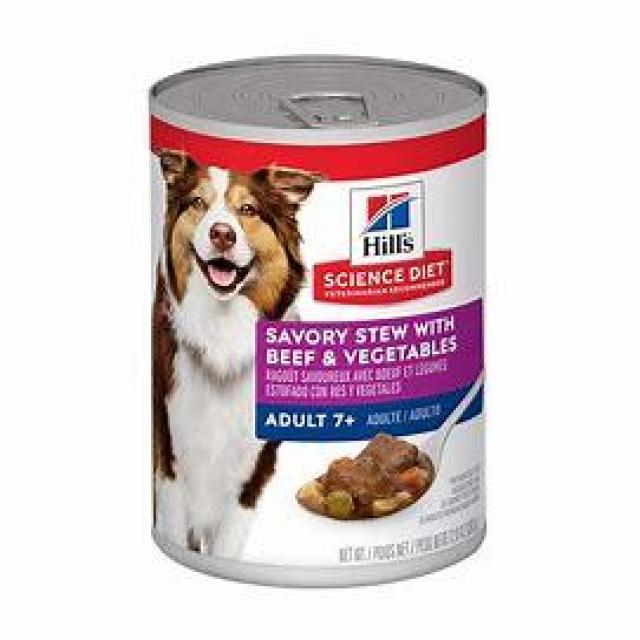can: (144, 52, 487, 591)
pop tab: (272, 87, 384, 129)
